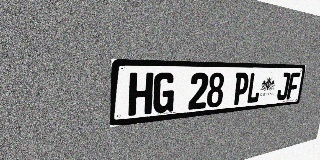2: (188, 72, 209, 110)
8: (206, 72, 226, 108)
F: (286, 72, 300, 99)
G: (152, 72, 176, 114)
H: (128, 72, 154, 116)
J: (276, 72, 291, 101)
L: (246, 72, 263, 104)
P: (232, 72, 250, 105)
